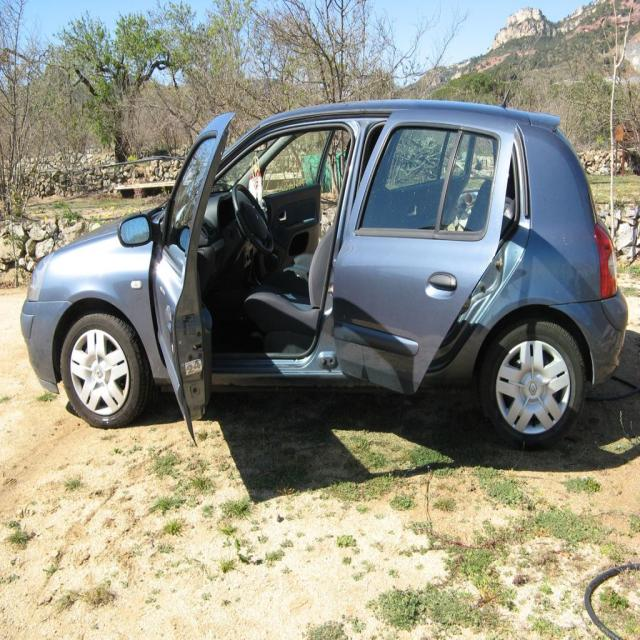car: (18, 21, 628, 450)
